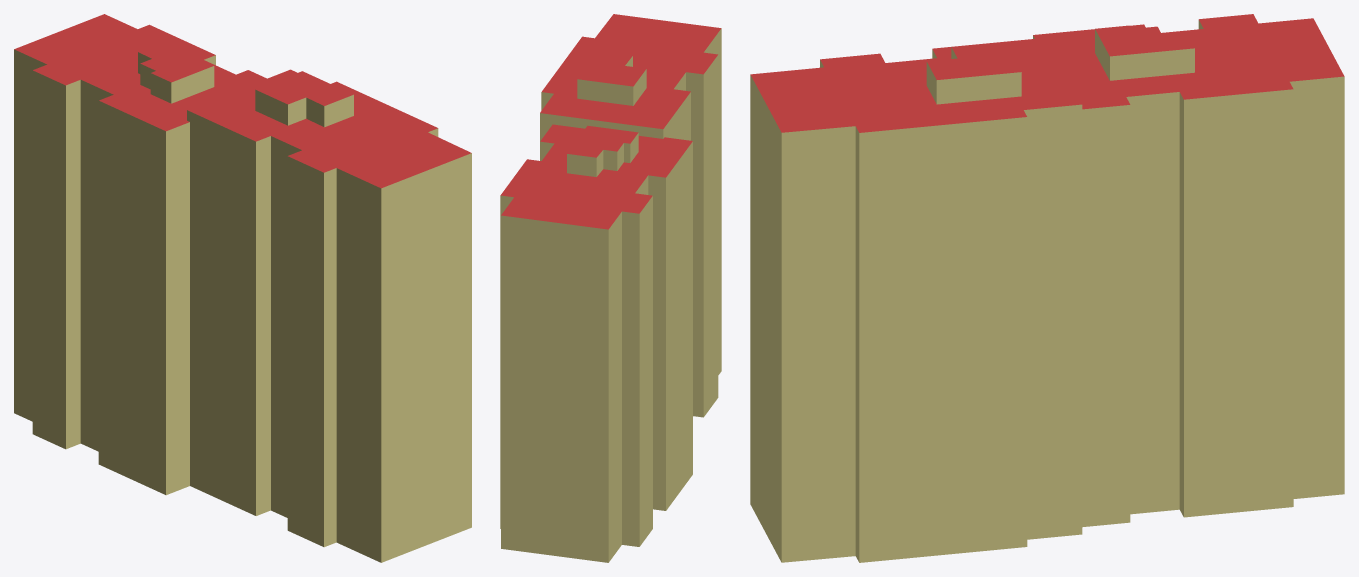
3 renders of one model, left to right at view 1: azimuth 30°, elevation 25°; view 2: azimuth 150°, elevation 25°; view 3: azimuth 270°, elevation 25°, orthographic. The views are drawn at different scales.
Parts seen in each view (by area): view 1: group_11, group_6, group_8, group_3, group_10, group_9, group_5, group_4; view 2: group_6, group_11, group_8, group_3, group_9, group_10, group_5, group_4; view 3: group_11, group_6, group_8, group_3, group_5, group_10, group_9, group_4.
Part boxes in pixels (x1,y1,x2,y2): group_11: [187, 110, 471, 562]; group_6: [14, 49, 215, 495]; group_8: [187, 69, 471, 188]; group_3: [14, 14, 266, 131]; group_10: [255, 89, 353, 127]; group_9: [255, 71, 353, 105]; group_5: [138, 52, 214, 103]; group_4: [138, 42, 213, 82]; group_6: [500, 141, 692, 562]; group_11: [540, 28, 721, 417]; group_8: [540, 14, 721, 129]; group_3: [500, 124, 692, 229]; group_9: [577, 51, 646, 86]; group_10: [577, 56, 646, 105]; group_5: [567, 133, 638, 176]; group_4: [567, 125, 638, 157]; group_11: [750, 49, 1082, 562]; group_6: [1033, 20, 1344, 527]; group_8: [750, 37, 1081, 132]; group_3: [1033, 14, 1344, 109]; group_5: [1095, 29, 1194, 80]; group_10: [926, 47, 1021, 104]; group_9: [927, 41, 1021, 79]; group_4: [1095, 25, 1194, 56].
Bounding box in the file's own units: 33 × 63.16 × 53.29.
